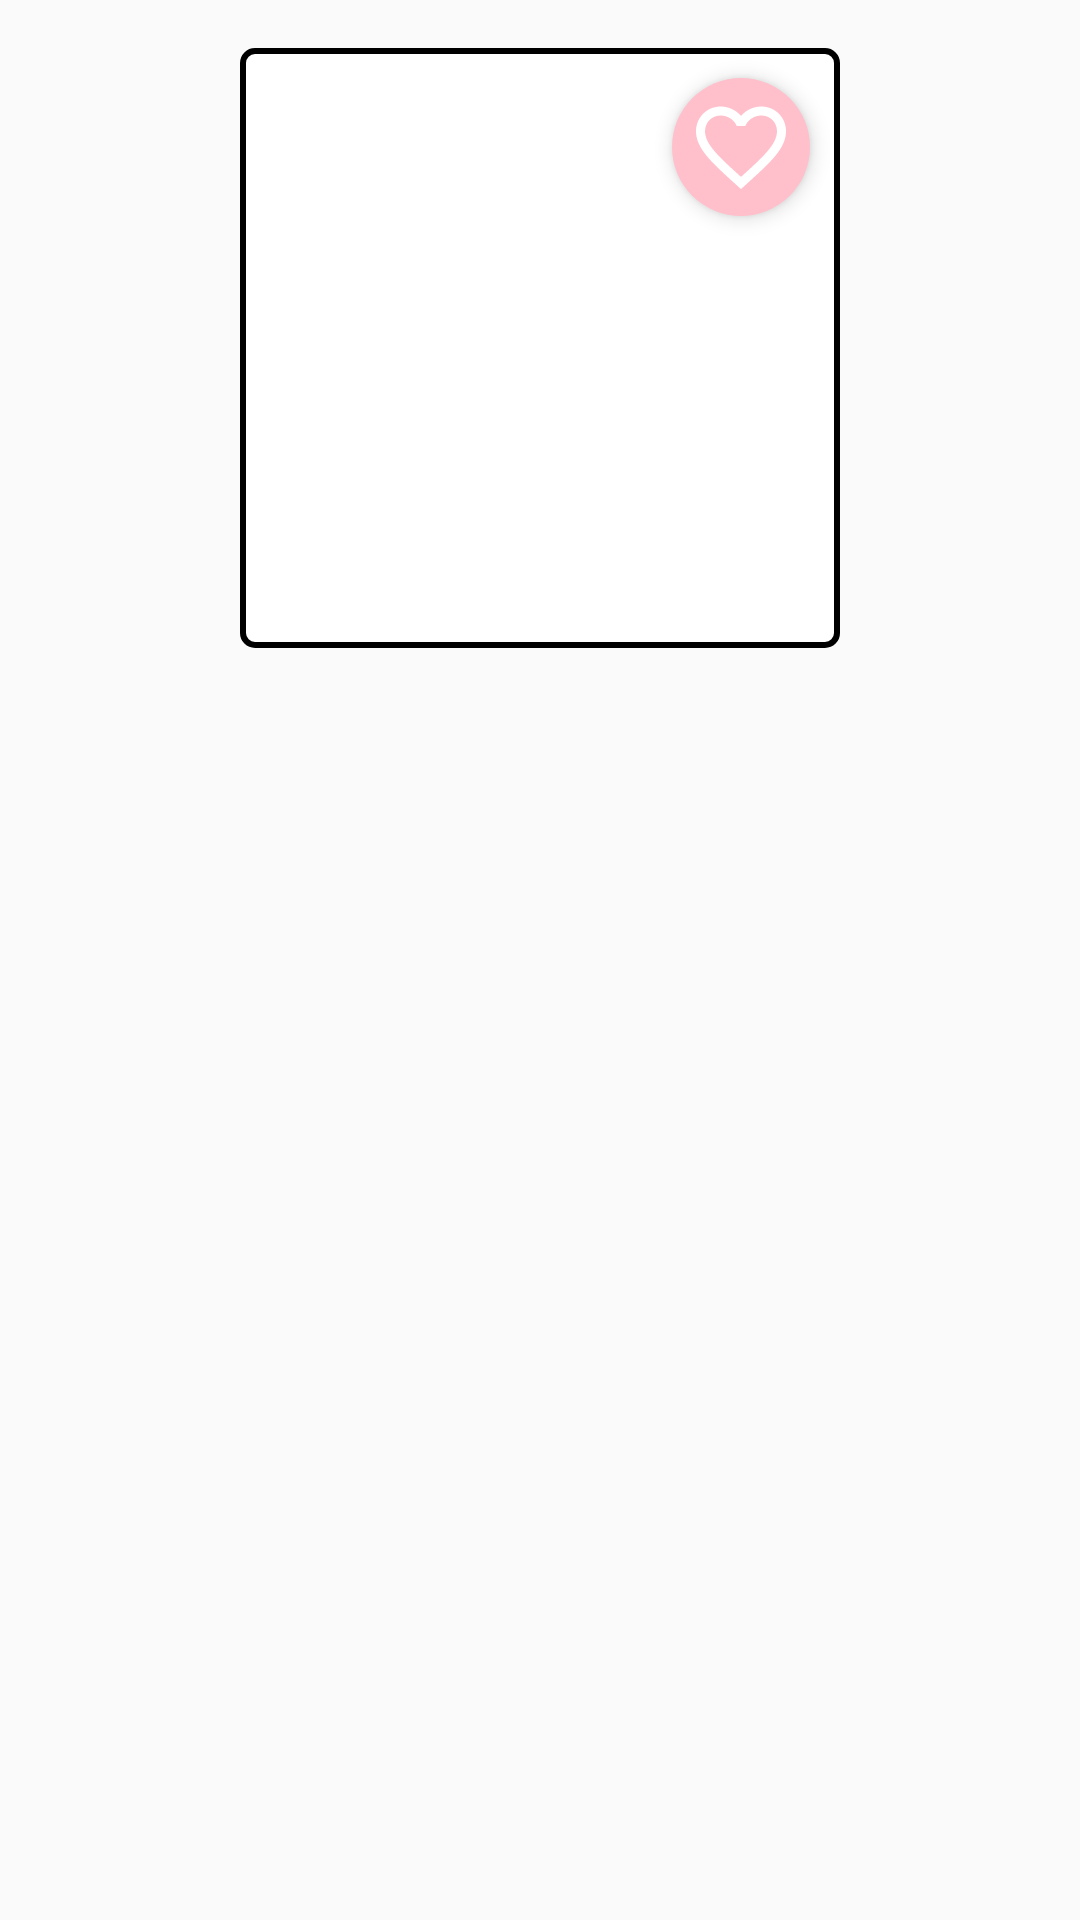

Named icons in this screenshot (1080 × 1920) and their centers, [x,y]:
favorite empty: [741,147]
